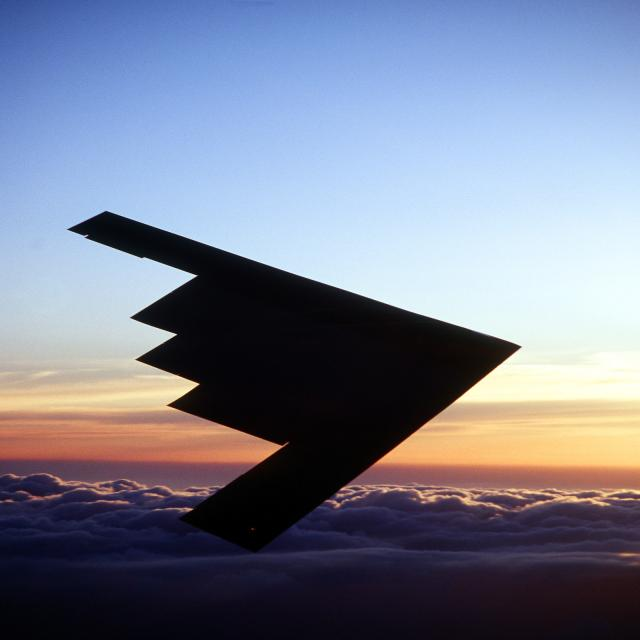MIL_Plane: (65, 216, 524, 548)
